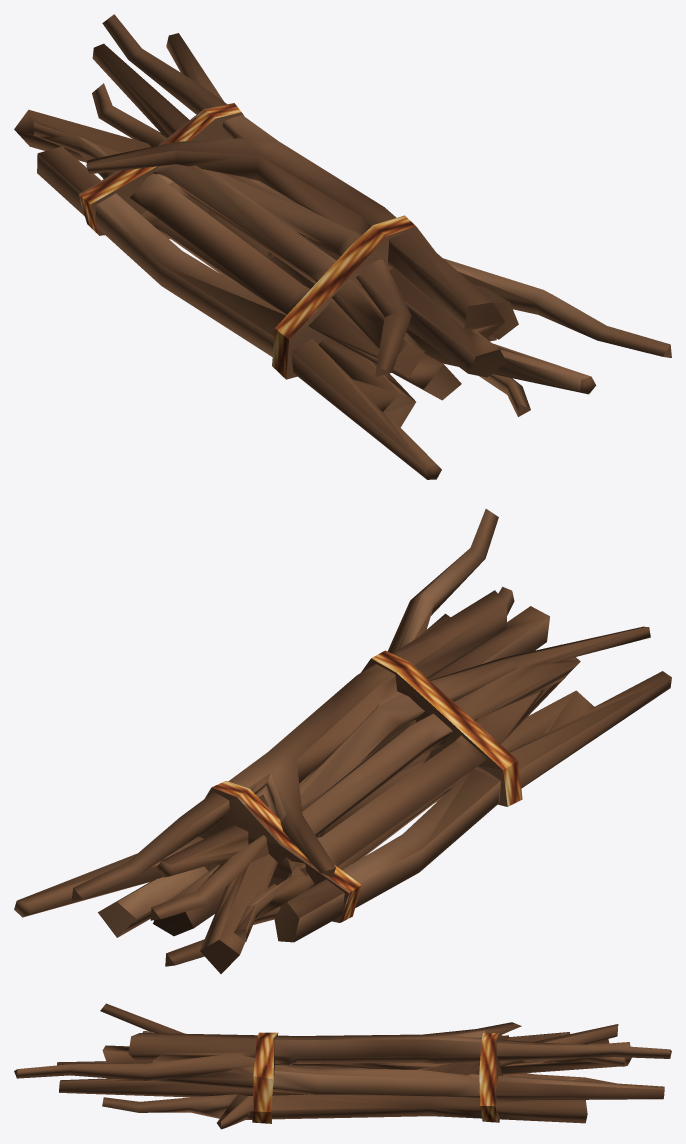
The model's file is DJG_BoundTwigs10.fbx.
3 views of the same model, one above another, from view 1: azimuth 30°, elevation 25°; view 2: azimuth 150°, elevation 25°; view 3: azimuth 270°, elevation 25° (orthographic). The views are drawn at different scales.
Visible parts, largest first — view 1: Twigs.10; view 2: Twigs.10; view 3: Twigs.10.
Part boxes in pixels (x1=…): Twigs.10: x1=14, y1=14, x2=671, y2=479; Twigs.10: x1=14, y1=509, x2=671, y2=973; Twigs.10: x1=14, y1=1003, x2=671, y2=1129.
Size of the model in its own units: 0.1396 by 0.0704 by 0.511.
